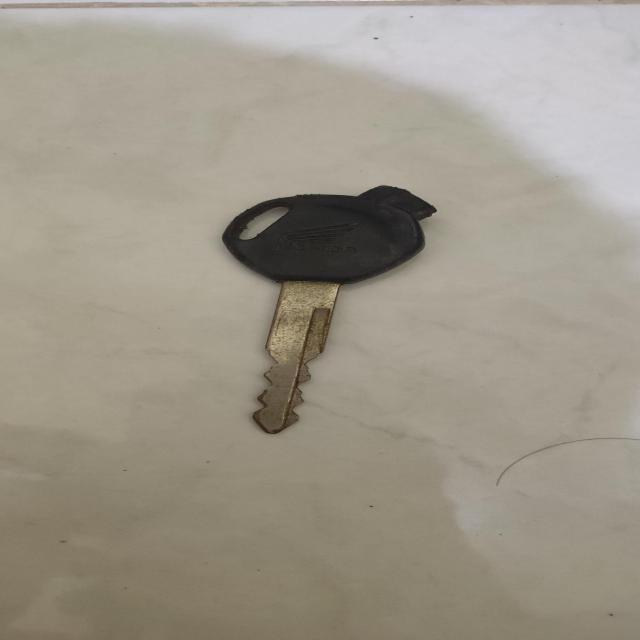kunci_motor: (182, 175, 474, 440)
